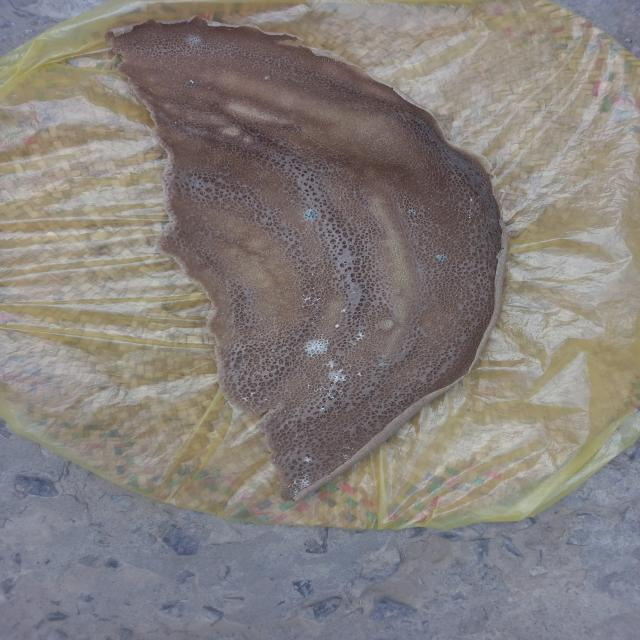injera_mold: (303, 383, 344, 414), (301, 337, 329, 357), (326, 360, 348, 385), (291, 473, 310, 496), (298, 294, 324, 310), (462, 196, 476, 219), (301, 208, 319, 220), (240, 390, 258, 402), (186, 33, 202, 46), (352, 330, 367, 343), (301, 453, 315, 464), (434, 253, 448, 263), (376, 358, 388, 368), (406, 207, 419, 215)
